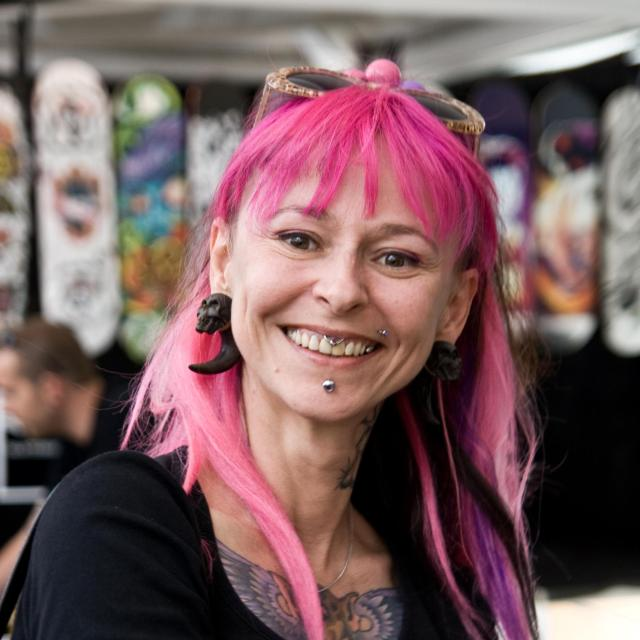no-glass: (275, 231, 431, 277)
